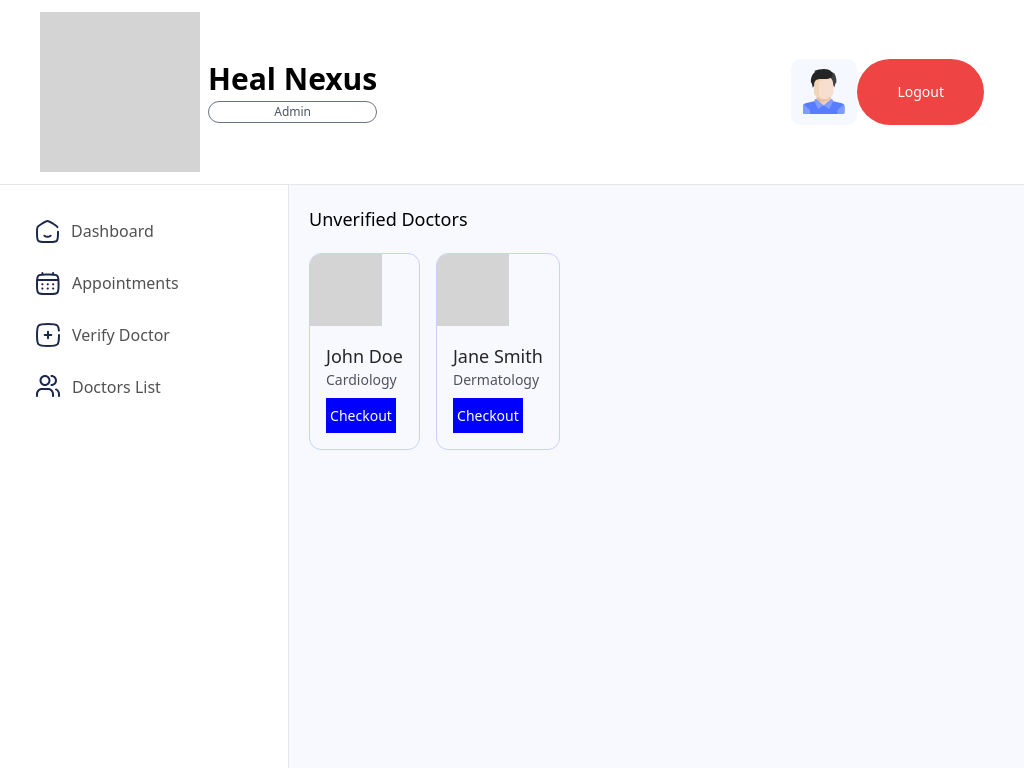
Test: UnverifiedDoctor Component › displays doctor profile when clicking on Checkout button
Click on the Checkout button for the first doctor (John Doe)
Click the button "Checkout" below "Cardiology": [361, 416] box [326,398,396,433]
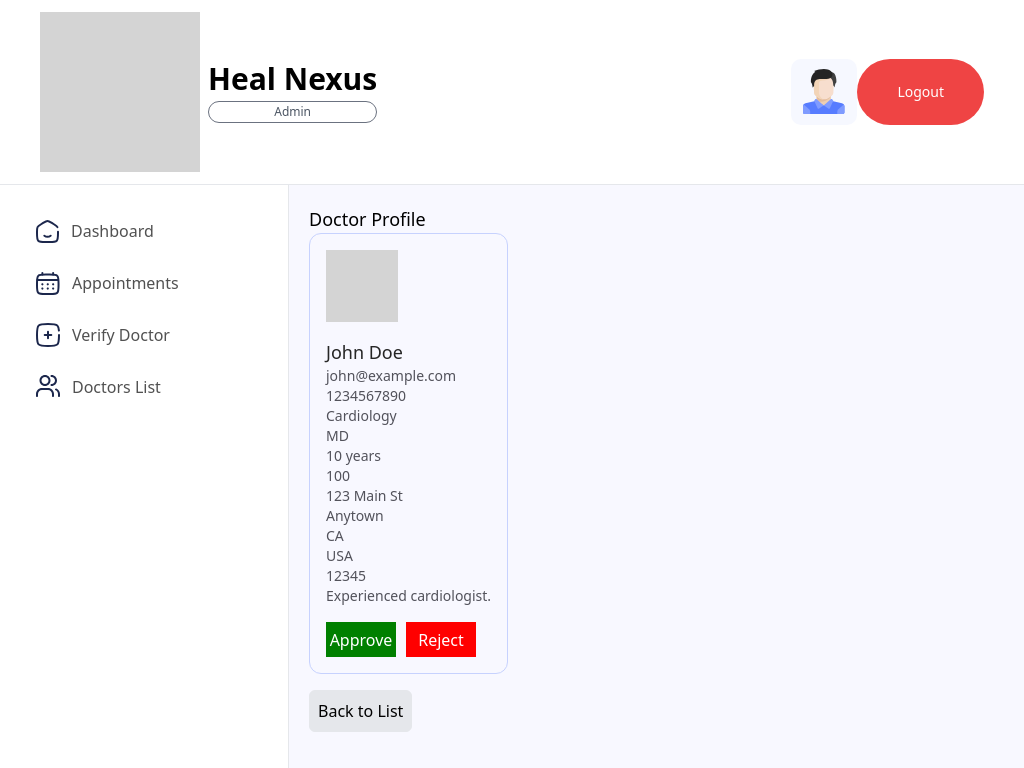
Expected: the text "John Doe" is shown, [326,340,403,364]
Now the heading "Doctor Profile" is shown, box [309,207,426,231]
Now the text "john@example.com" is shown, box [326,366,456,385]
